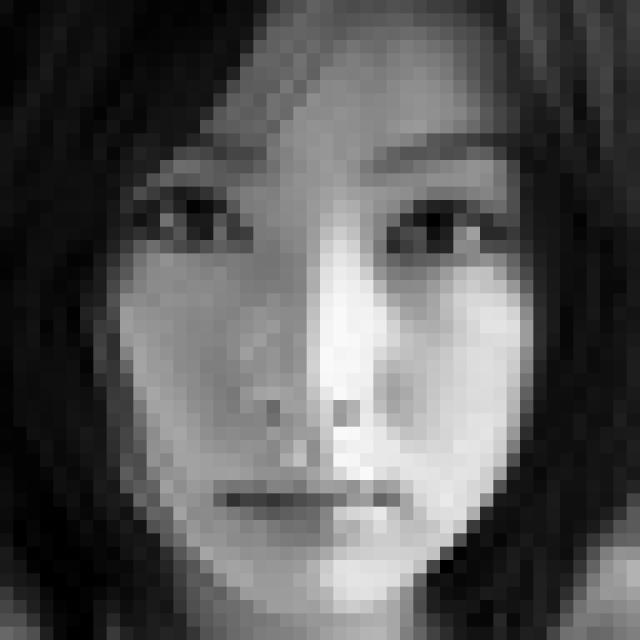neutral: (117, 124, 520, 555)
